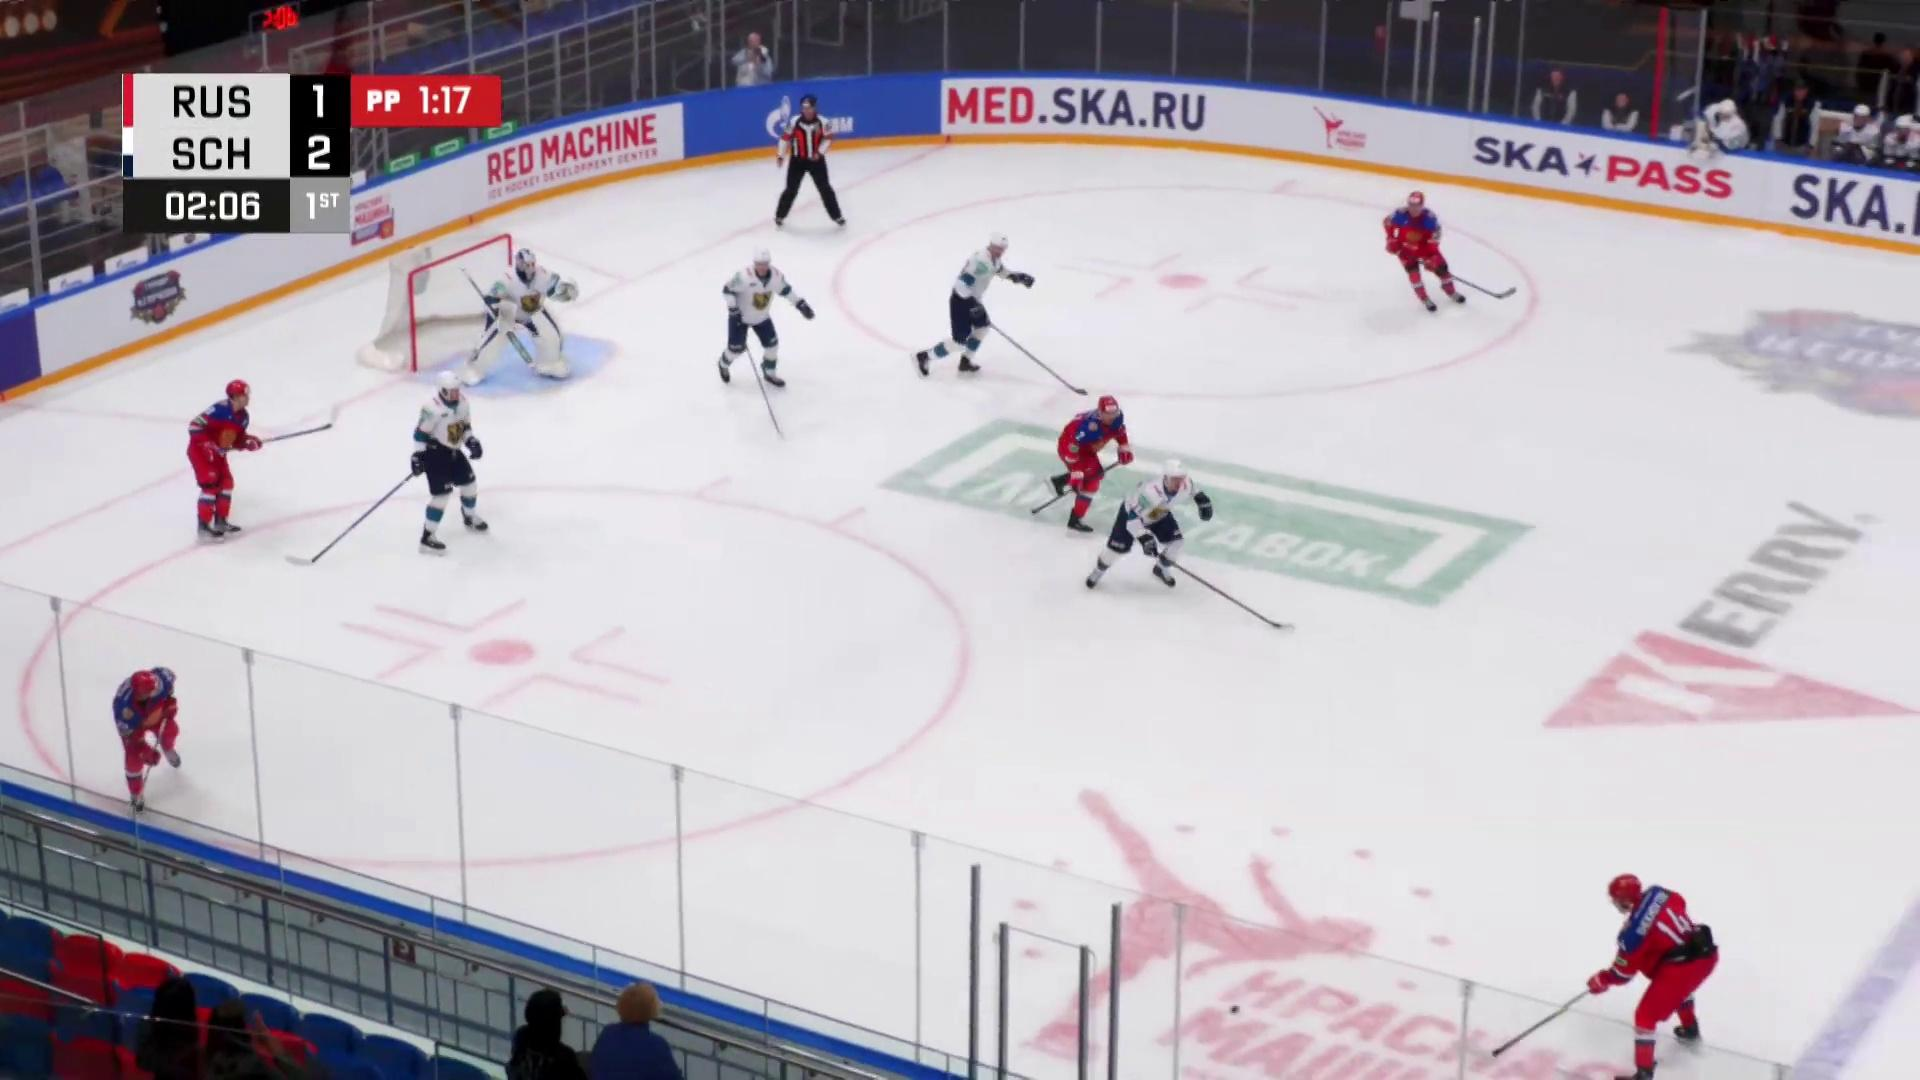ball: (1230, 1005, 1240, 1014)
